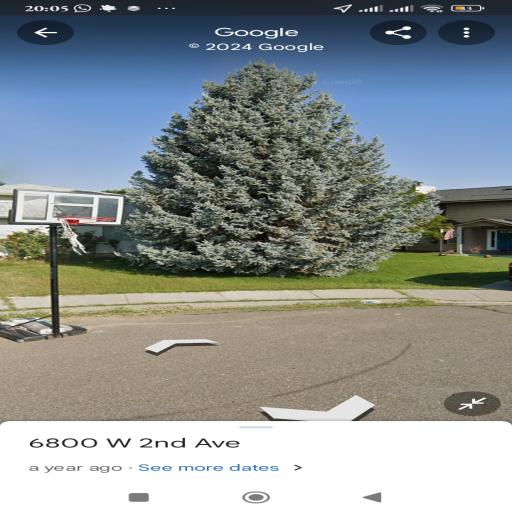Roads: (33, 298, 486, 413)
Trees: (95, 58, 447, 284)
